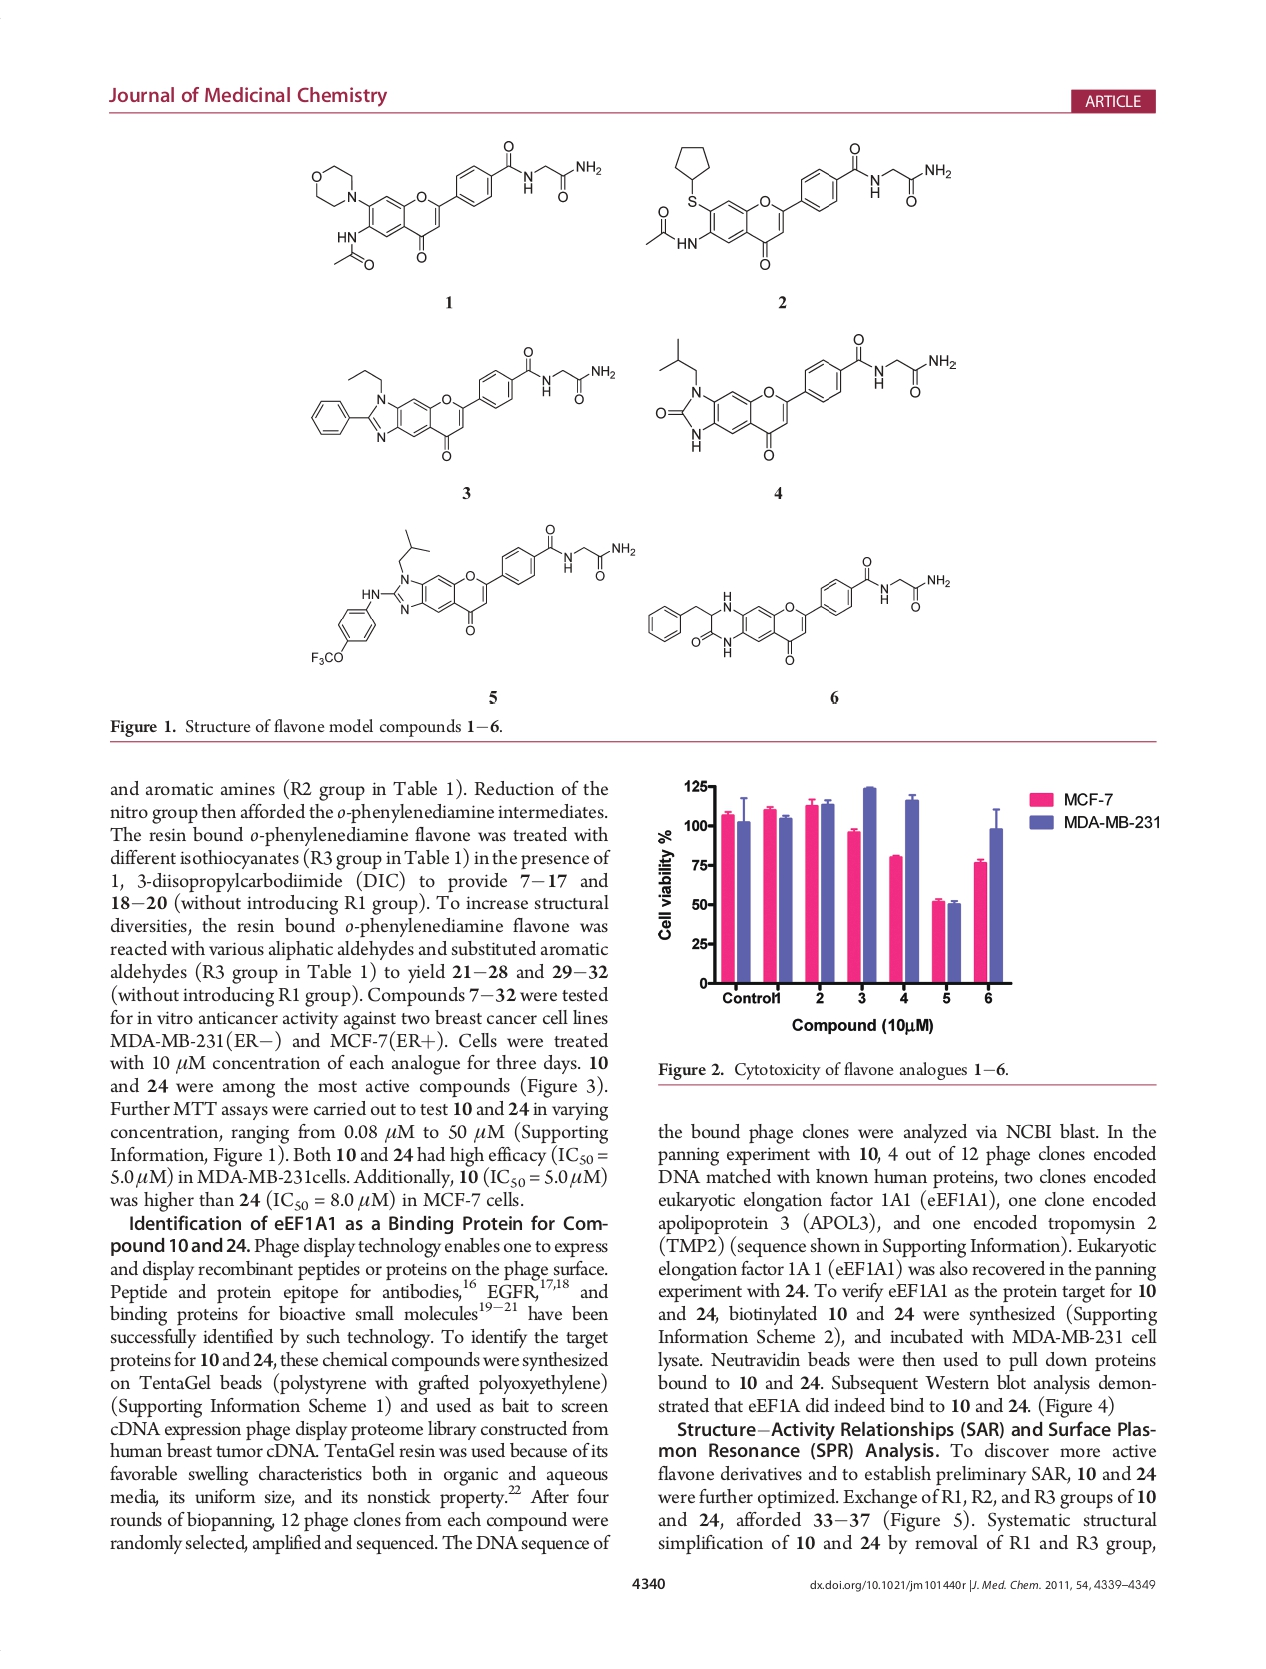exist_molecular: (305, 520, 636, 668), (641, 140, 956, 271), (309, 137, 606, 275), (648, 332, 960, 463), (309, 343, 618, 465), (642, 555, 955, 668)
